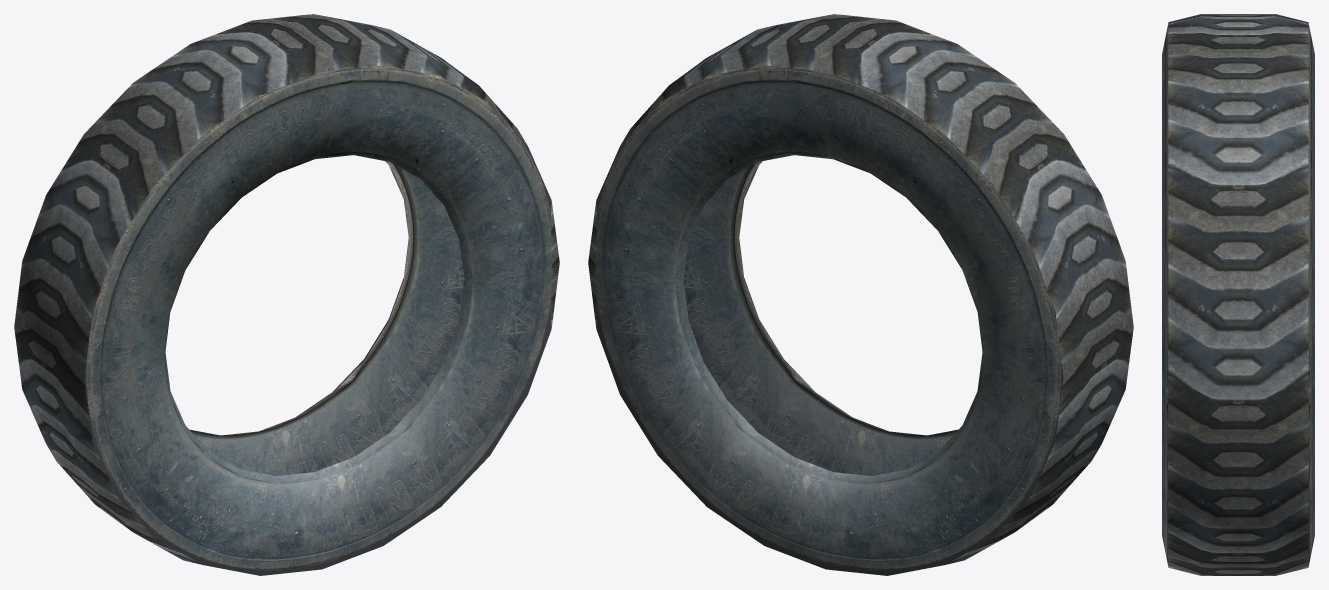
Rendered from tyre2_LOD0.fbx.
3 views of the same model, side by side, from view 1: azimuth 30°, elevation 25°; view 2: azimuth 150°, elevation 25°; view 3: azimuth 270°, elevation 25° (orthographic).
Parts seen in each view (by area): view 1: Mesh Object; view 2: Mesh Object; view 3: Mesh Object.
Part boxes in pixels (x1,y1,x2,y2): Mesh Object: (14, 14, 559, 575); Mesh Object: (588, 14, 1133, 575); Mesh Object: (1162, 14, 1314, 575).
Size of the model in its own units: 0.8858 by 0.8858 by 0.24.
